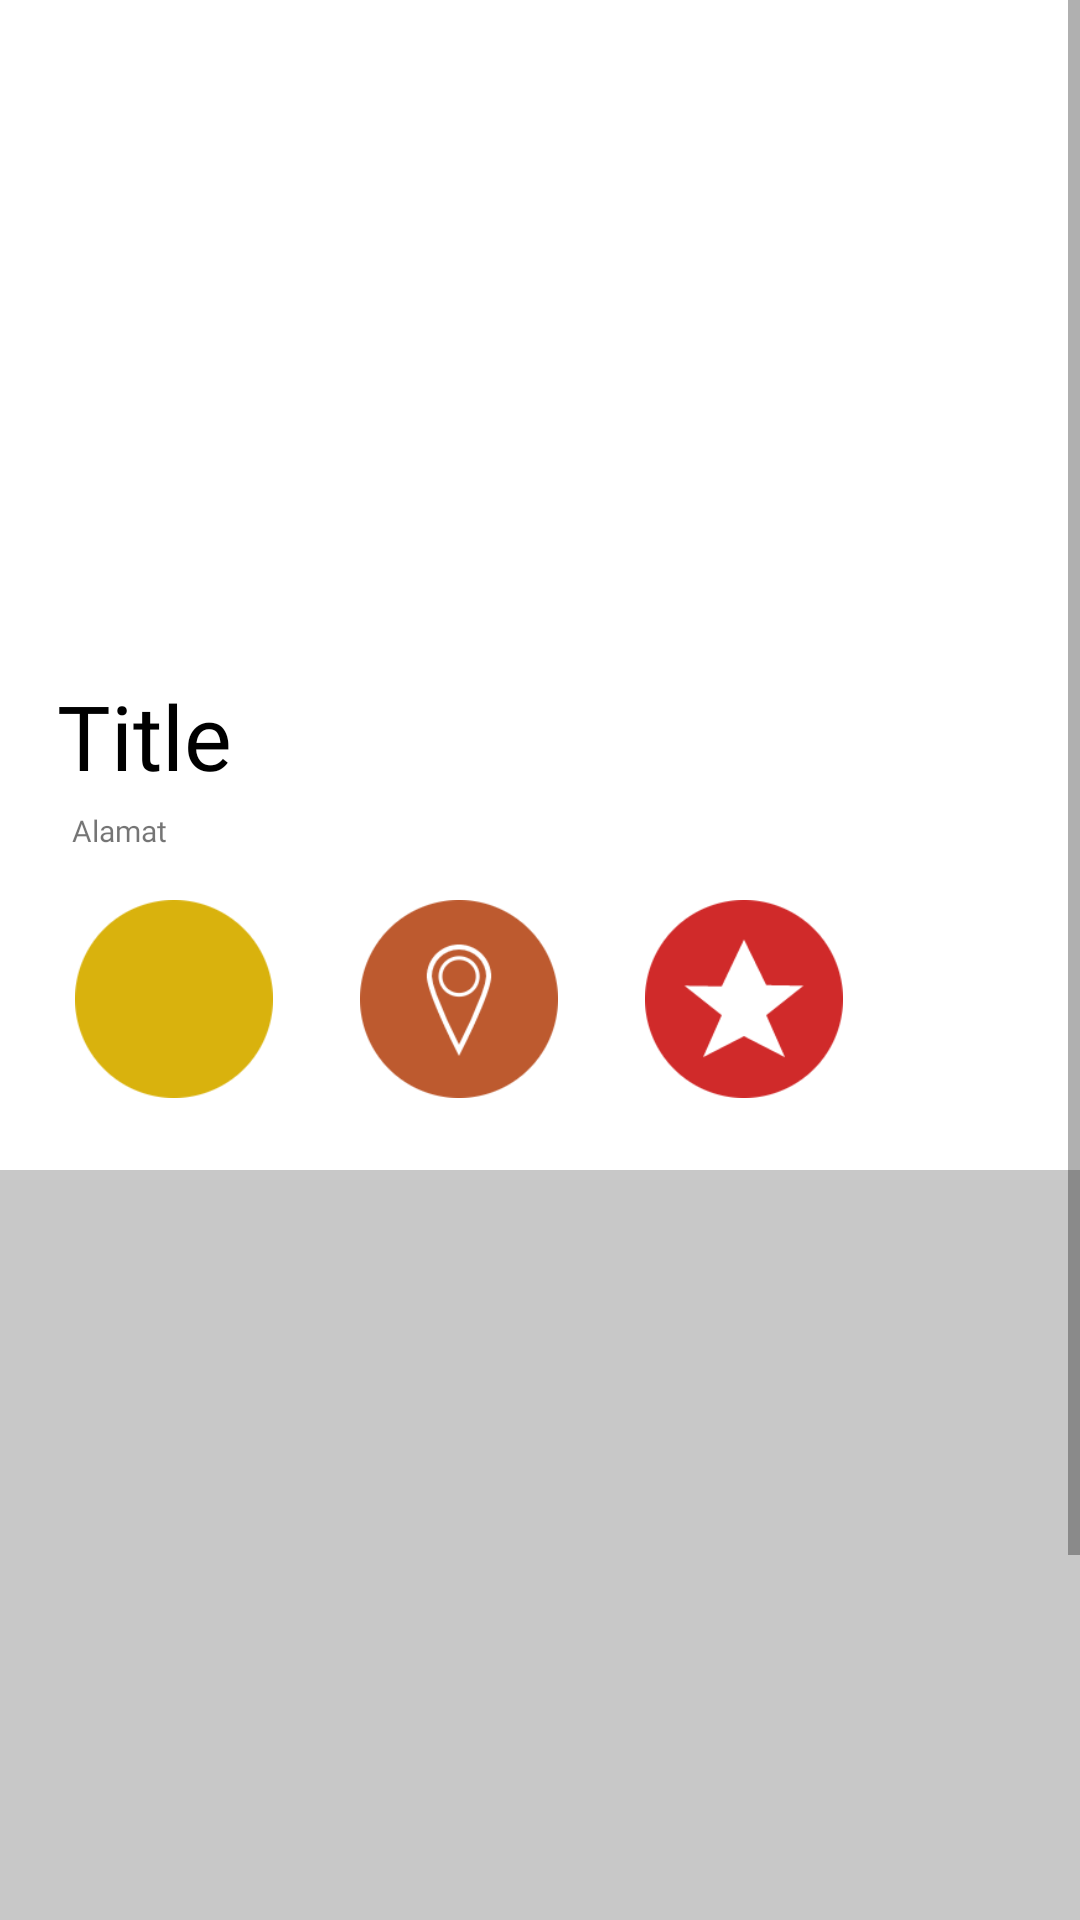

Screen size 1080w x 1920h. Icon name, then its center in pixels as point (x, y):
favorite: point (744, 999)
location: point (459, 999)
